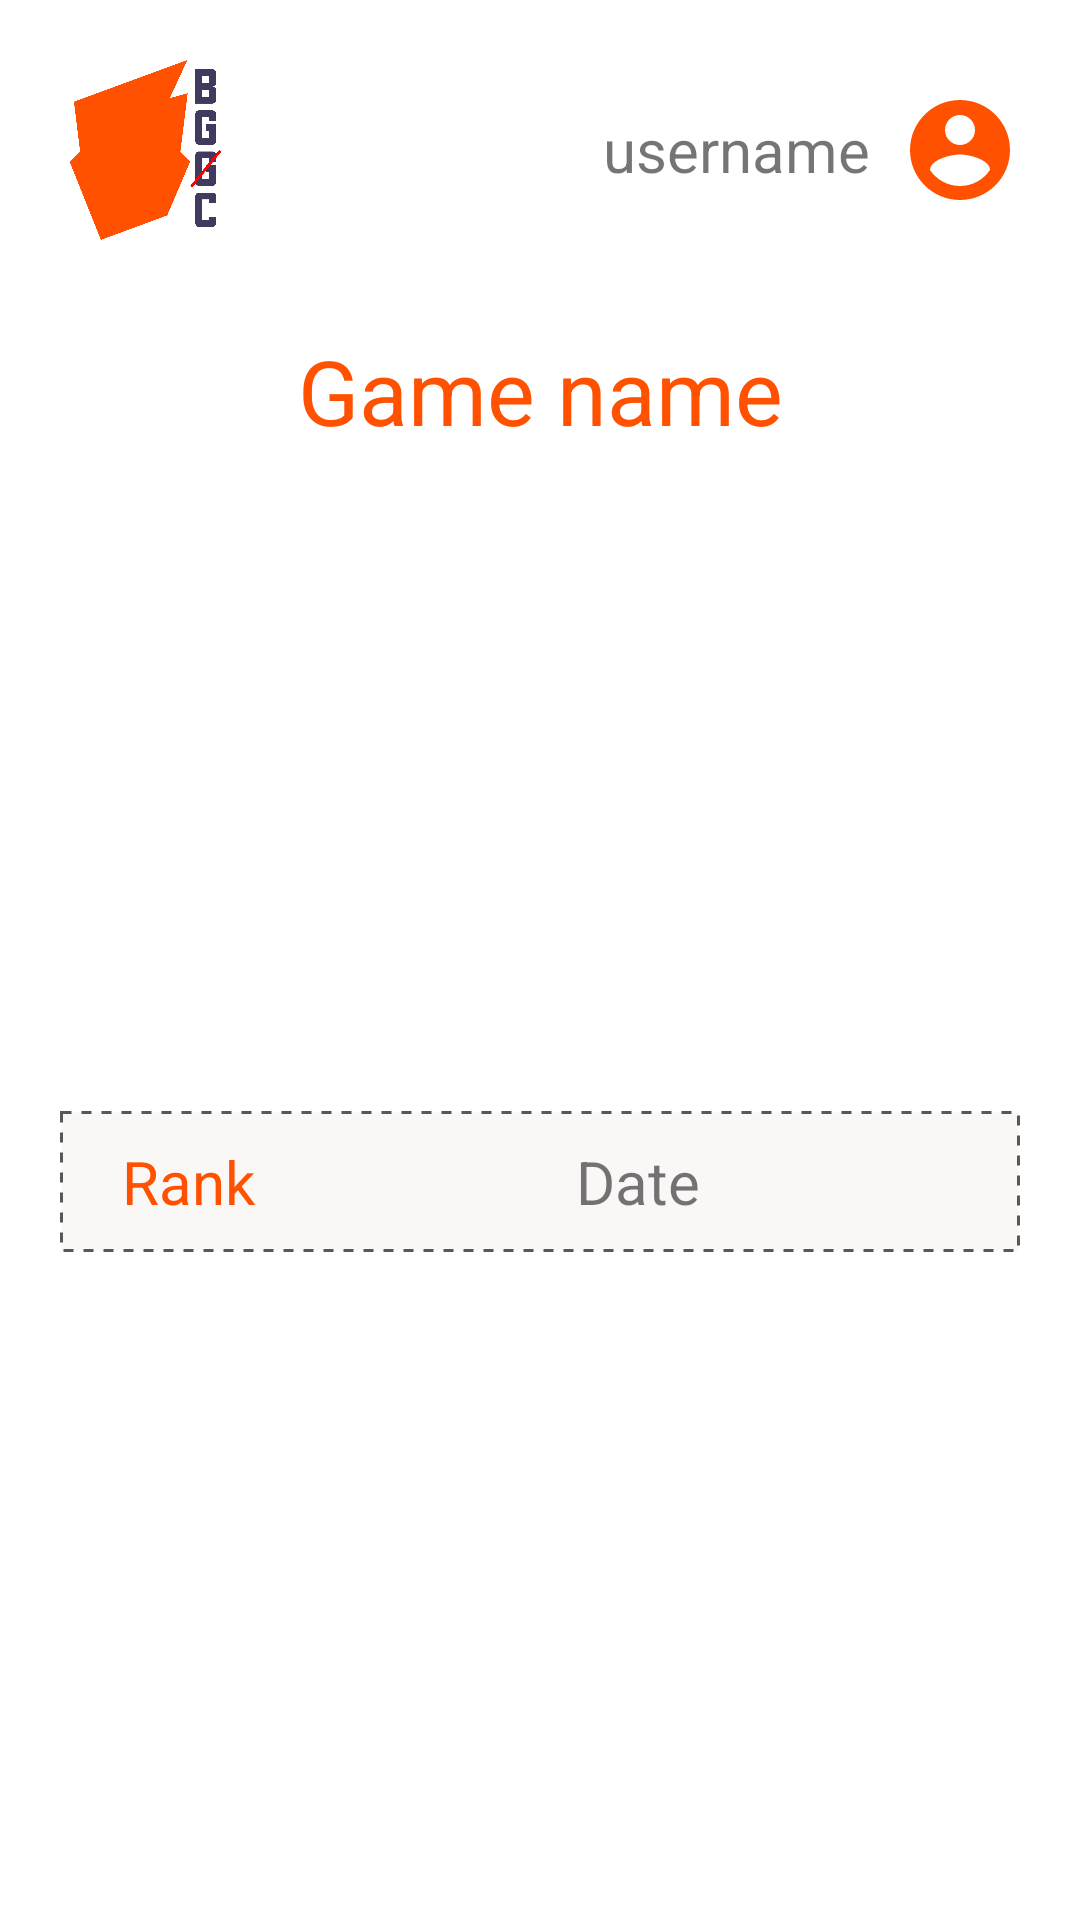

Screen size 1080x1920. Icon name, then its box in pixels as BBox(x1, y1, x2, y2):
account circle: BBox(910, 100, 1010, 200)
